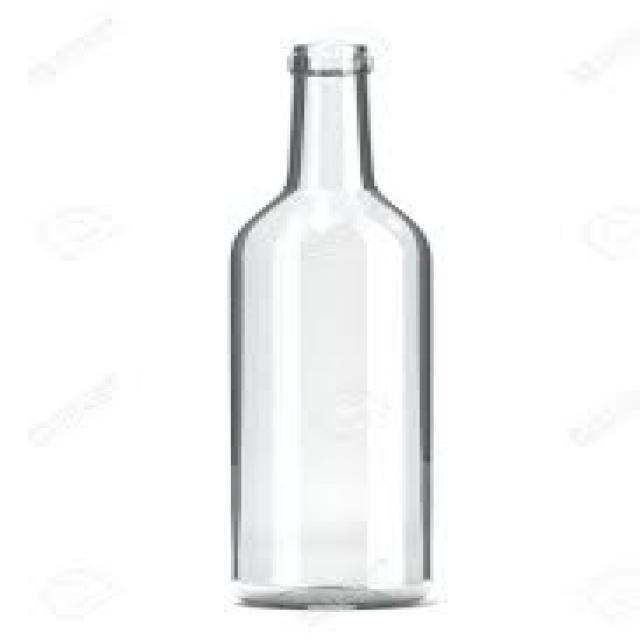glass: (224, 42, 427, 605)
